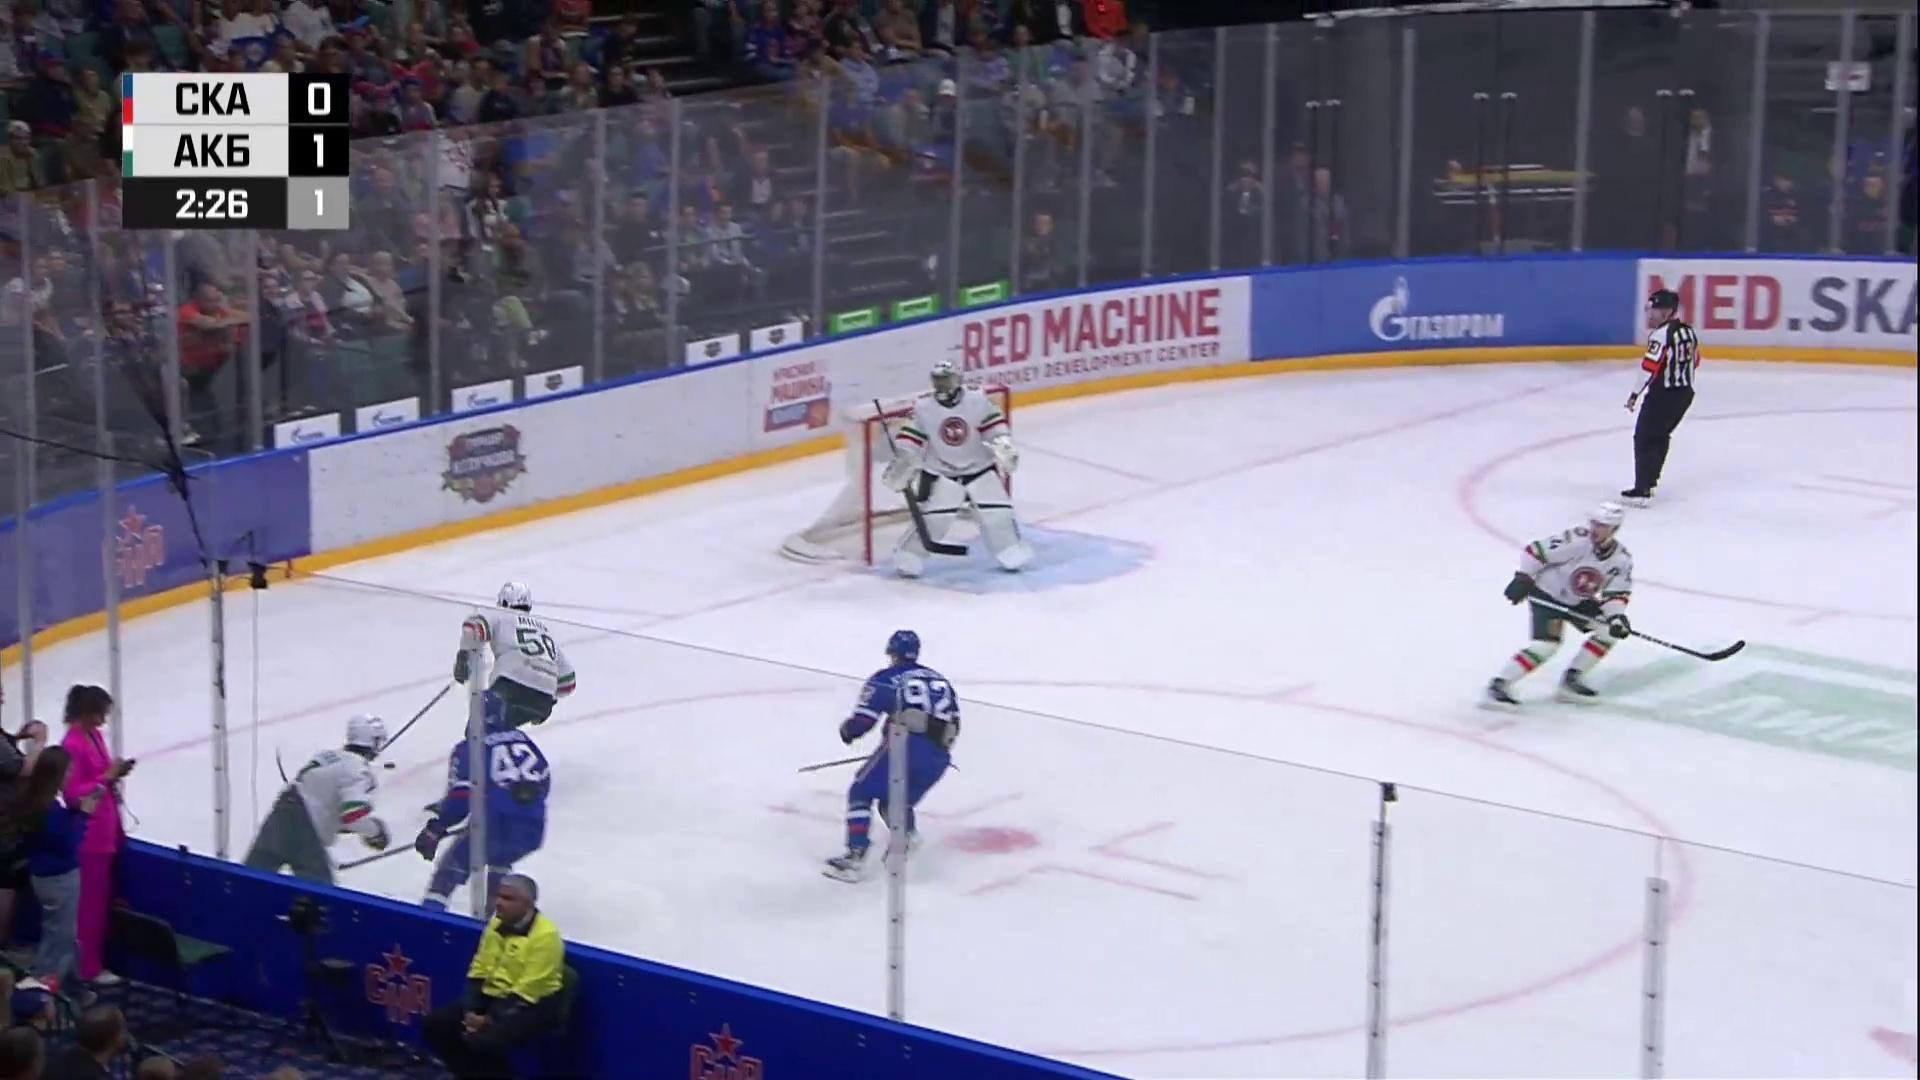ball: (384, 764, 397, 769)
